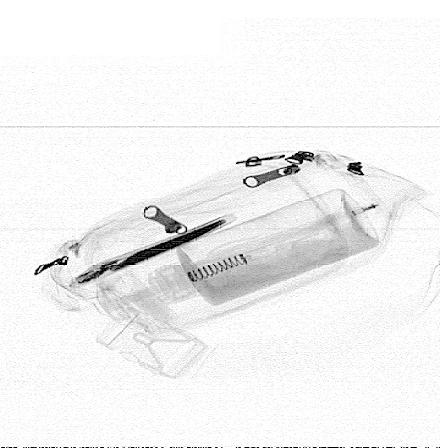Powerbank: (69, 213, 240, 288)
